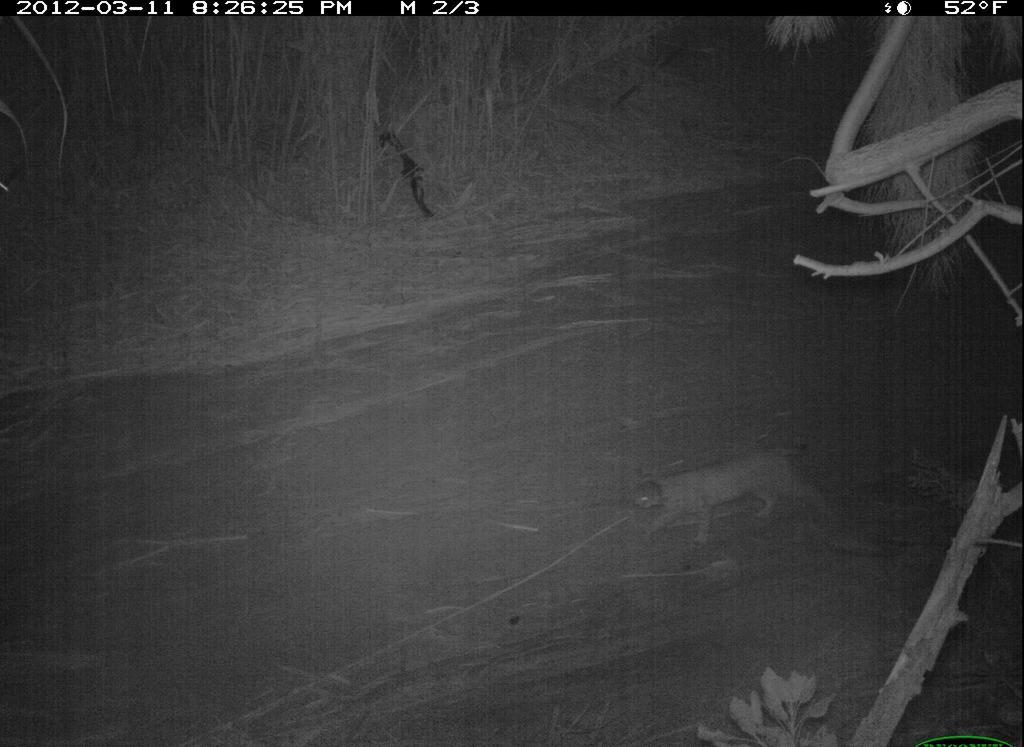bobcat: (627, 441, 844, 551)
